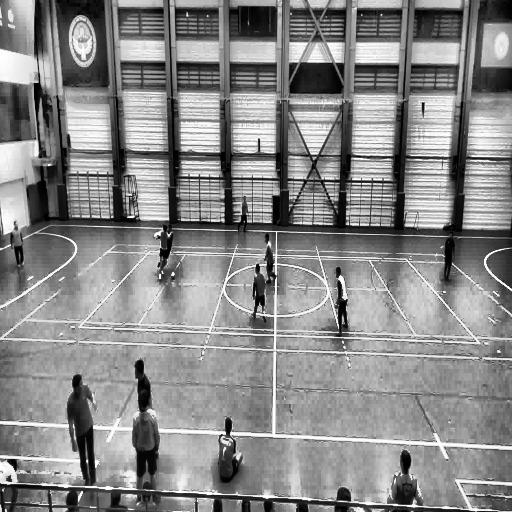ball: (172, 271, 176, 280)
player: (68, 373, 98, 487), (133, 390, 161, 498), (156, 223, 173, 280), (334, 266, 348, 335), (252, 262, 268, 322), (156, 221, 176, 269), (263, 232, 278, 288), (12, 221, 26, 268), (442, 230, 455, 280), (237, 196, 248, 233)
